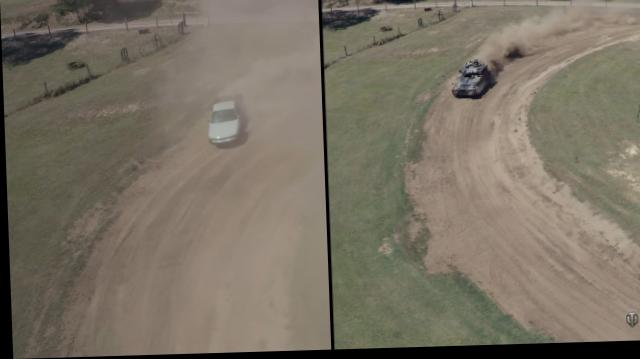tank: (455, 66, 489, 96)
